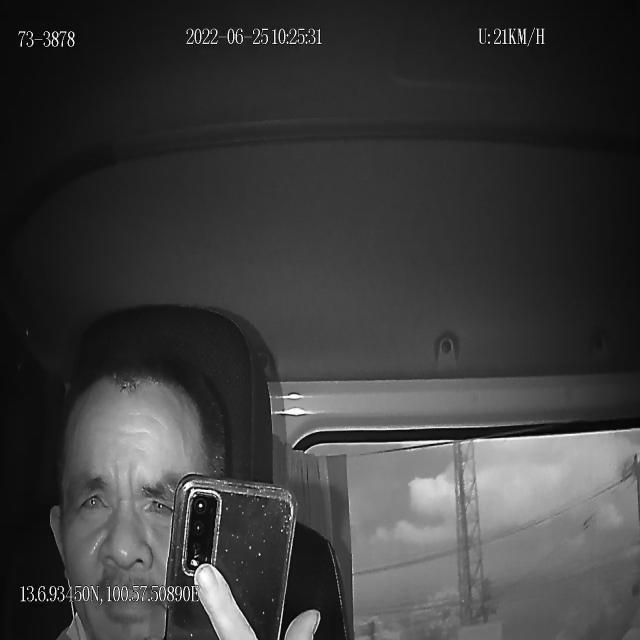phone: (164, 472, 298, 640)
